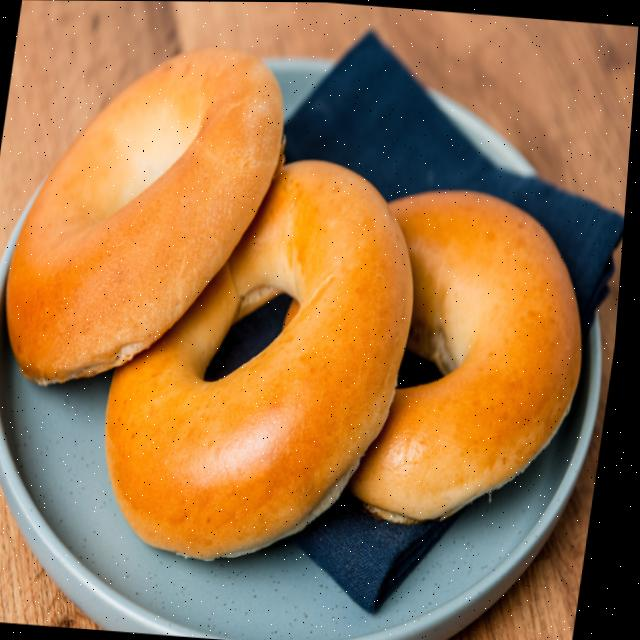Bagel: (112, 160, 417, 559), (11, 47, 285, 382), (356, 190, 586, 521)
